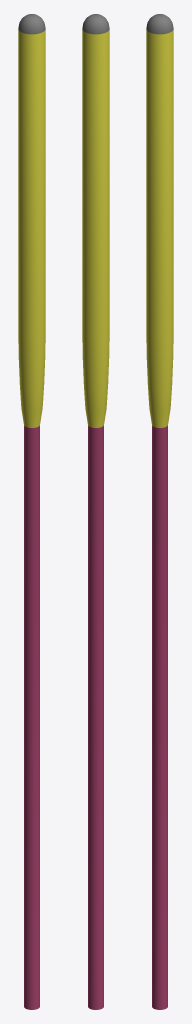
The model's file is fireworks.glb.
3 views of the same model, side by side, from view 1: azimuth 90°, elevation 25°; view 2: azimuth 150°, elevation 25°; view 3: azimuth 270°, elevation 25° (orthographic).
Visible parts, largest first — view 1: root; view 2: root; view 3: root.
Part boxes in pixels (left/top/right/bottom): root: left=18, top=14, right=45, bottom=1009; root: left=82, top=14, right=109, bottom=1009; root: left=146, top=14, right=173, bottom=1009.
Bounding box in the file's own units: 0.15 × 6 × 0.15.
